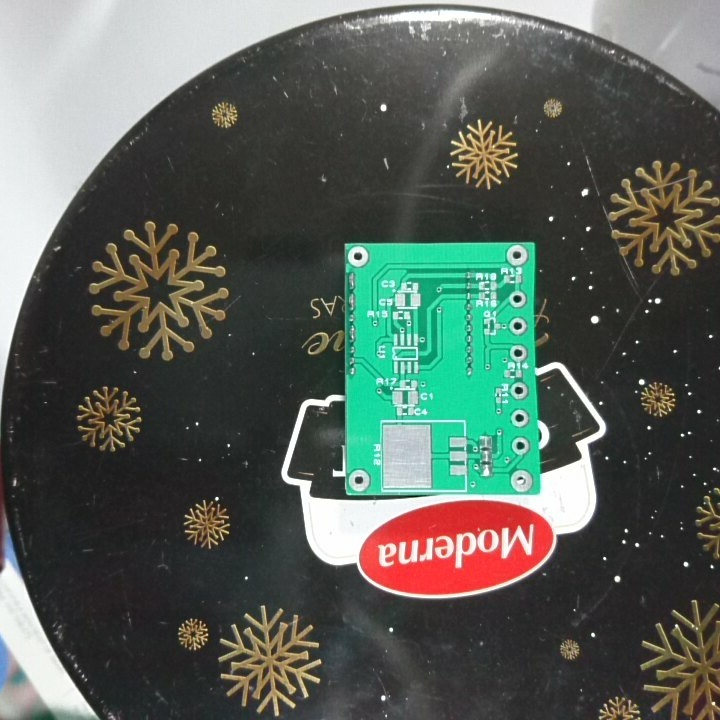F: (508, 466, 534, 494), (505, 243, 531, 269), (348, 467, 371, 494), (346, 245, 371, 268), (509, 380, 531, 403), (509, 434, 531, 456), (508, 340, 529, 363), (509, 408, 531, 429), (507, 289, 528, 310), (507, 316, 527, 335)
P: (346, 289, 358, 315), (345, 322, 359, 344), (345, 269, 358, 291)
